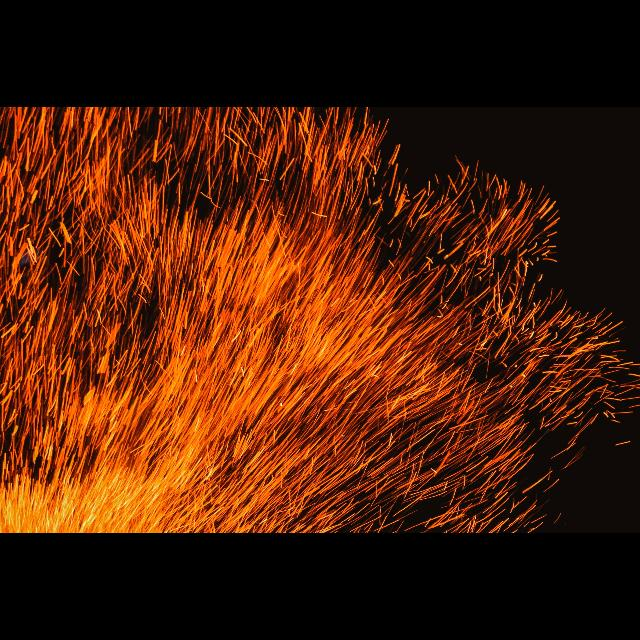fire: (0, 107, 640, 534), (0, 221, 500, 534)
